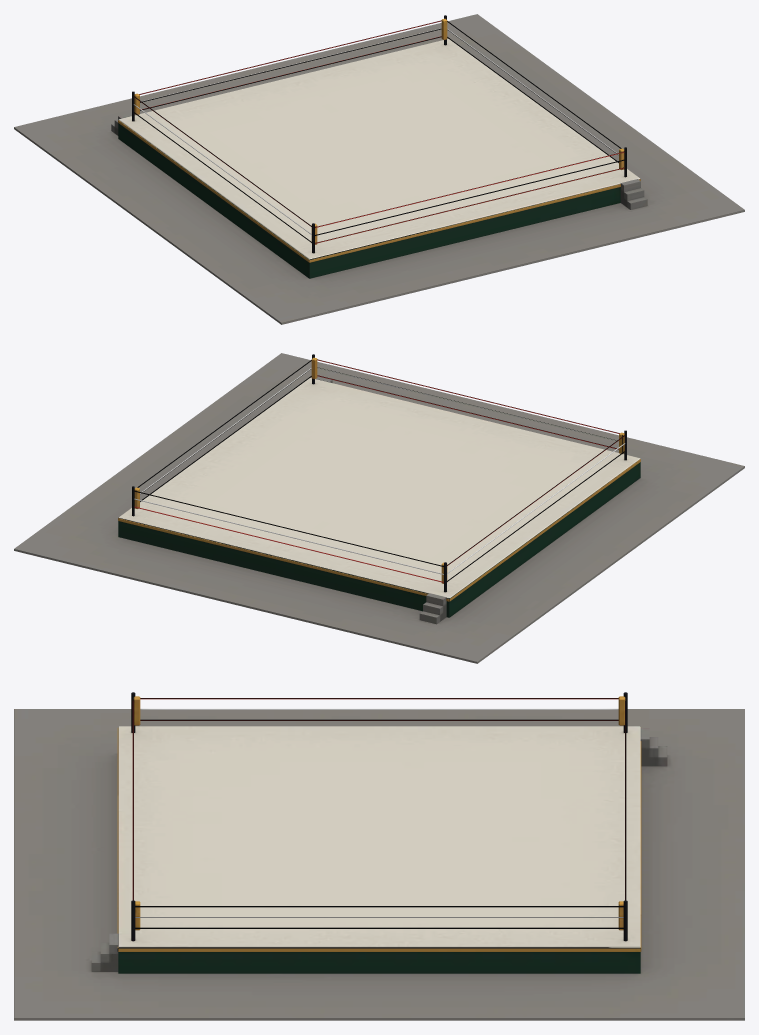
File: ring-wide.glb
3 views of the same model, one above another, from view 1: azimuth 30°, elevation 25°; view 2: azimuth 150°, elevation 25°; view 3: azimuth 270°, elevation 25° (orthographic). The views are drawn at different scales.
Parts seen in each view (by area): view 1: ring; view 2: ring; view 3: ring.
Part boxes in pixels (x1=…): ring: x1=14, y1=14, x2=744, y2=324; ring: x1=14, y1=353, x2=744, y2=663; ring: x1=14, y1=692, x2=744, y2=1020.
Size of the model in its own units: 24.5 by 2.55 by 24.5.
1 material, 1 textured.
